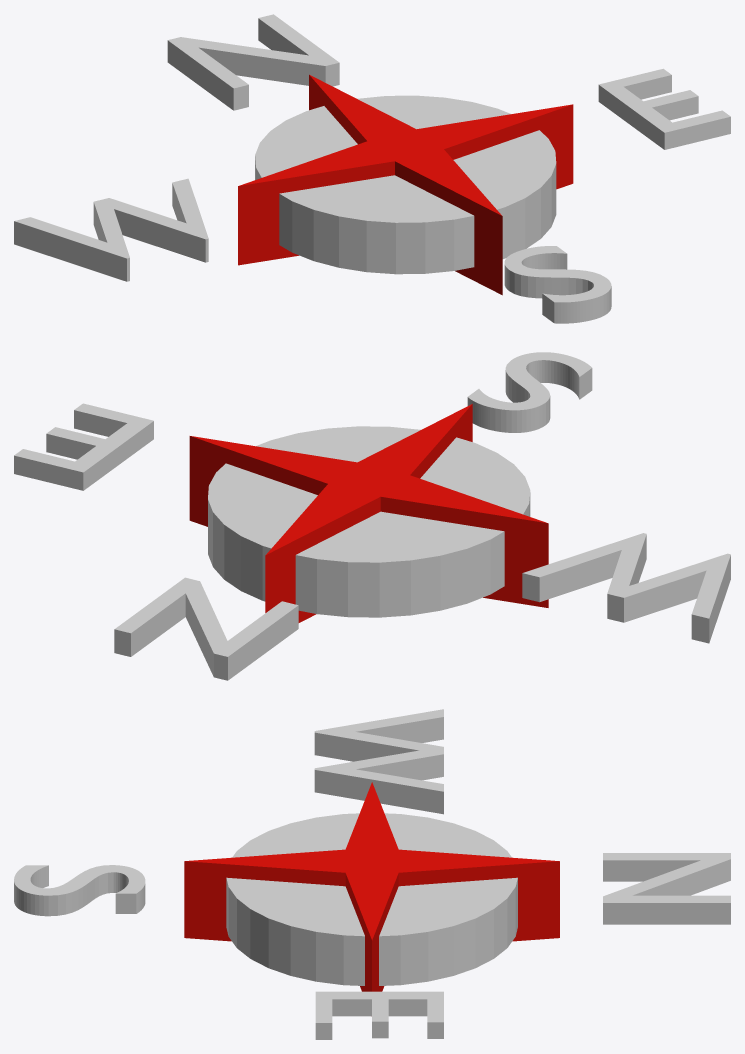
File: compass.glb
3 views of the same model, one above another, from view 1: azimuth 30°, elevation 25°; view 2: azimuth 150°, elevation 25°; view 3: azimuth 270°, elevation 25° (orthographic). The views are drawn at different scales.
Visible parts, largest first — view 1: Cylinder, Cube, W, N, E, S; view 2: Cylinder, Cube, W, N, E, S; view 3: Cylinder, Cube, W, N, S, E.
Boxes of the visible parts, left/top/right/bottom form: Cylinder: left=255, top=95, right=556, bottom=274; Cube: left=238, top=74, right=573, bottom=295; W: left=14, top=178, right=208, bottom=281; N: left=167, top=14, right=339, bottom=110; E: left=598, top=68, right=730, bottom=149; S: left=504, top=246, right=611, bottom=323; Cylinder: left=208, top=426, right=530, bottom=617; Cube: left=189, top=404, right=548, bottom=622; W: left=522, top=533, right=730, bottom=643; N: left=114, top=577, right=298, bottom=680; E: left=14, top=403, right=153, bottom=490; S: left=467, top=352, right=592, bottom=432; Cylinder: left=226, top=813, right=517, bottom=985; Cube: left=184, top=782, right=559, bottom=991; W: left=314, top=709, right=443, bottom=814; N: left=603, top=853, right=730, bottom=924; S: left=14, top=865, right=145, bottom=916; E: left=315, top=991, right=443, bottom=1039.
Size of the model in its own units: 3.88 by 0.4517 by 3.82.
